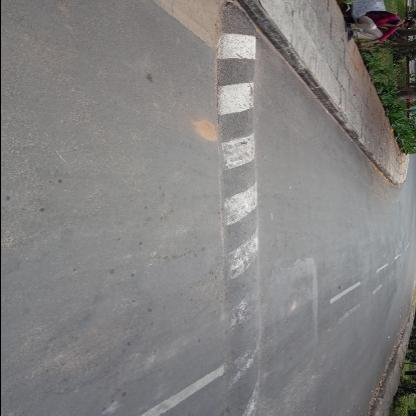speed-bumps: (213, 1, 264, 415)
